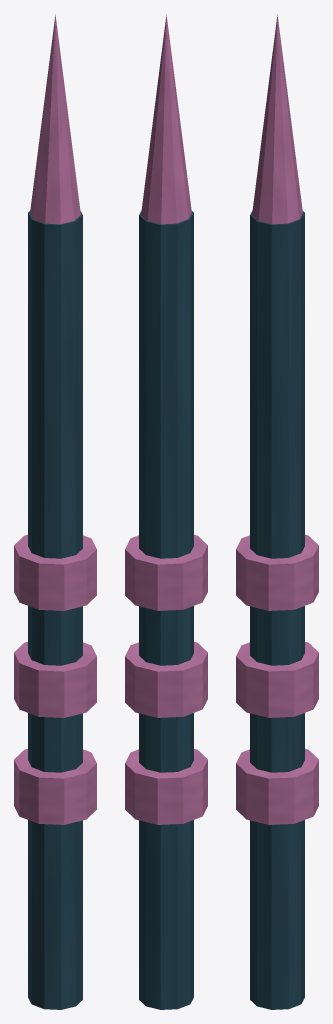
Rendered from atlas100-s061-a05.glb.
The picture shows the model from 3 angles, left to right: view 1: azimuth 30°, elevation 25°; view 2: azimuth 150°, elevation 25°; view 3: azimuth 330°, elevation 25°; orthographic projection.
Visible parts, largest first — view 1: atlas100-s061-a05:part-000, atlas100-s061-a05:part-004, atlas100-s061-a05:part-001, atlas100-s061-a05:part-002, atlas100-s061-a05:part-003; view 2: atlas100-s061-a05:part-000, atlas100-s061-a05:part-004, atlas100-s061-a05:part-001, atlas100-s061-a05:part-002, atlas100-s061-a05:part-003; view 3: atlas100-s061-a05:part-000, atlas100-s061-a05:part-004, atlas100-s061-a05:part-001, atlas100-s061-a05:part-002, atlas100-s061-a05:part-003.
Part boxes in pixels (x1,y1,x2,y2): atlas100-s061-a05:part-000: [28, 210, 82, 1009]; atlas100-s061-a05:part-004: [30, 14, 80, 224]; atlas100-s061-a05:part-001: [14, 749, 96, 824]; atlas100-s061-a05:part-002: [14, 641, 96, 717]; atlas100-s061-a05:part-003: [14, 534, 96, 610]; atlas100-s061-a05:part-000: [139, 210, 193, 1009]; atlas100-s061-a05:part-004: [141, 14, 191, 224]; atlas100-s061-a05:part-001: [125, 749, 207, 824]; atlas100-s061-a05:part-002: [125, 641, 207, 717]; atlas100-s061-a05:part-003: [125, 534, 207, 610]; atlas100-s061-a05:part-000: [250, 210, 304, 1009]; atlas100-s061-a05:part-004: [252, 14, 302, 224]; atlas100-s061-a05:part-001: [236, 749, 318, 824]; atlas100-s061-a05:part-002: [236, 641, 318, 717]; atlas100-s061-a05:part-003: [236, 534, 318, 610].
Bounding box in the file's own units: 0.1158 × 1.51 × 0.1101.
Materials: 2 (2 with a texture image).
